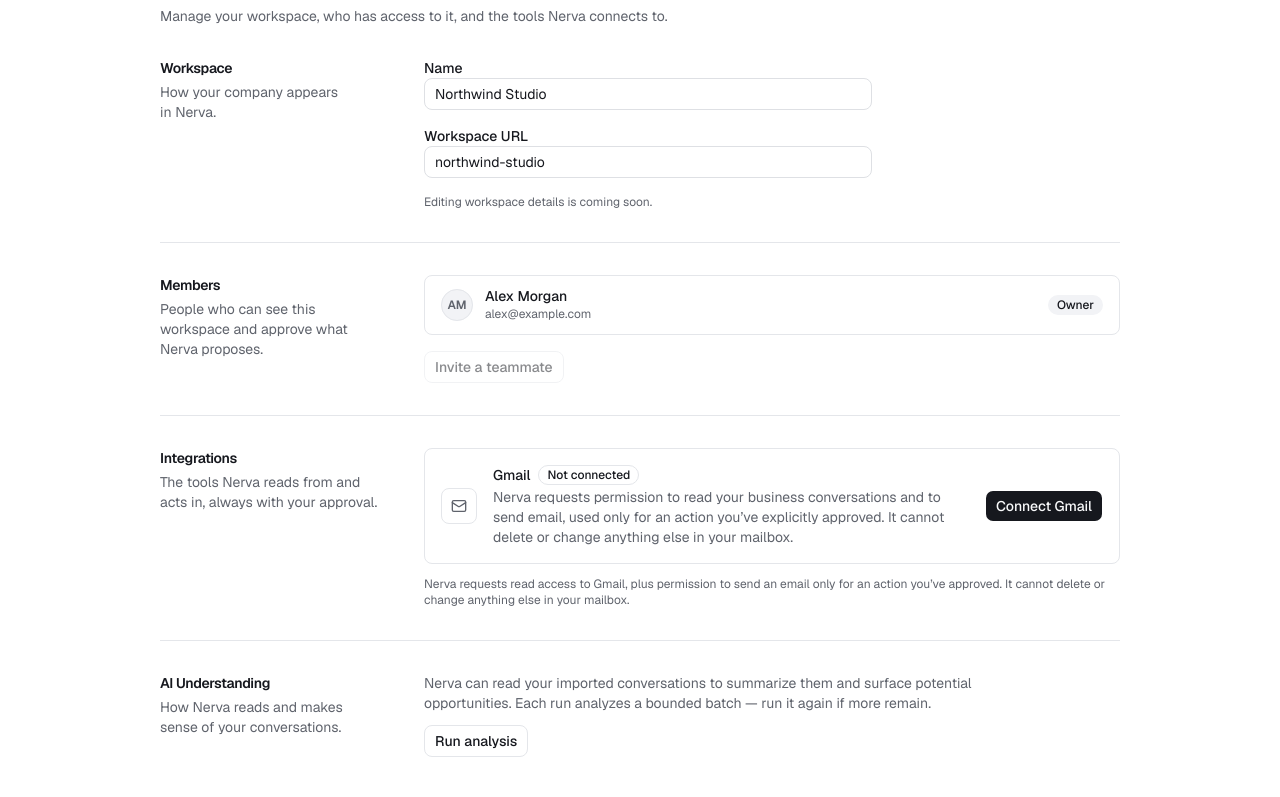
it: SettingsView › AI Understanding › runs a bounded analysis batch and shows the result summary
(page scrolled)
Click the button "Run analysis": (476, 740) [424,724,528,756]
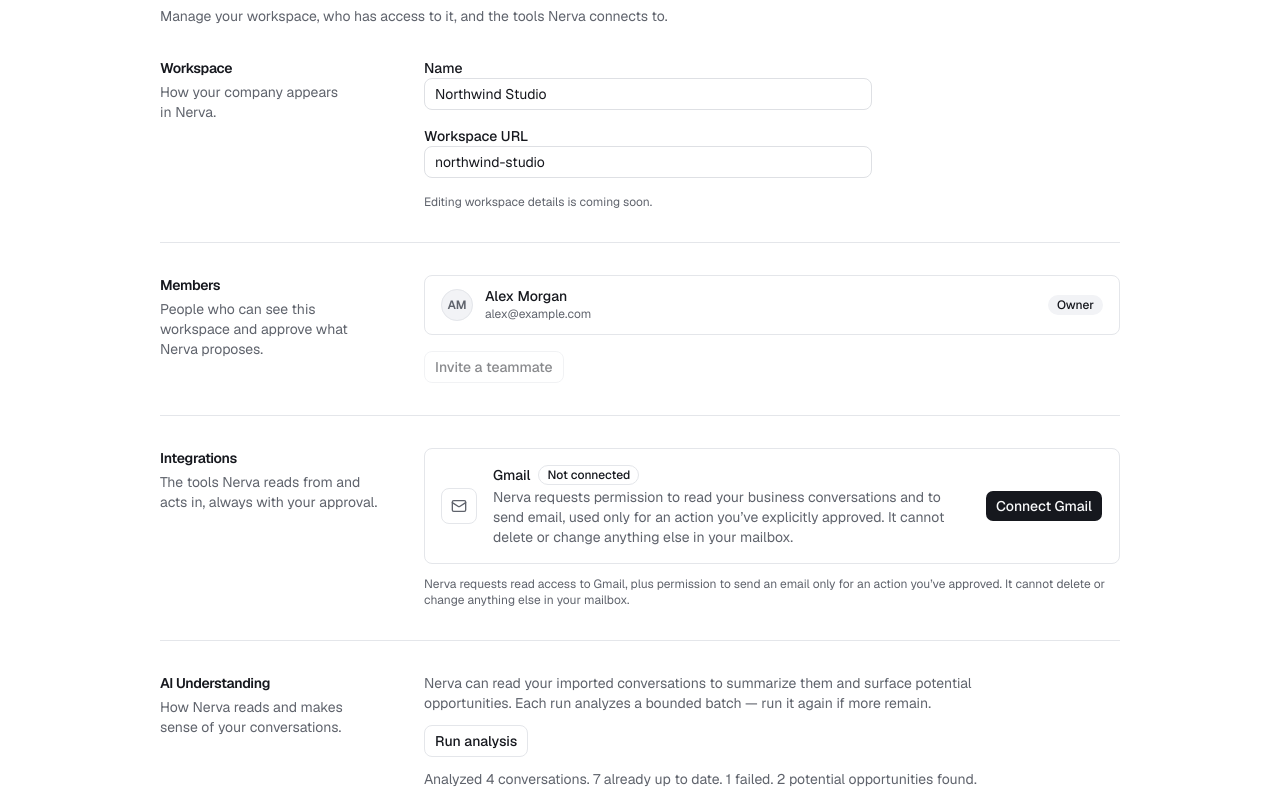
Check: the text "Analyzed 4 conversations. 7 already up to date. 1 failed. 2 potential opportunities found." is shown, box [424,770,977,788]
